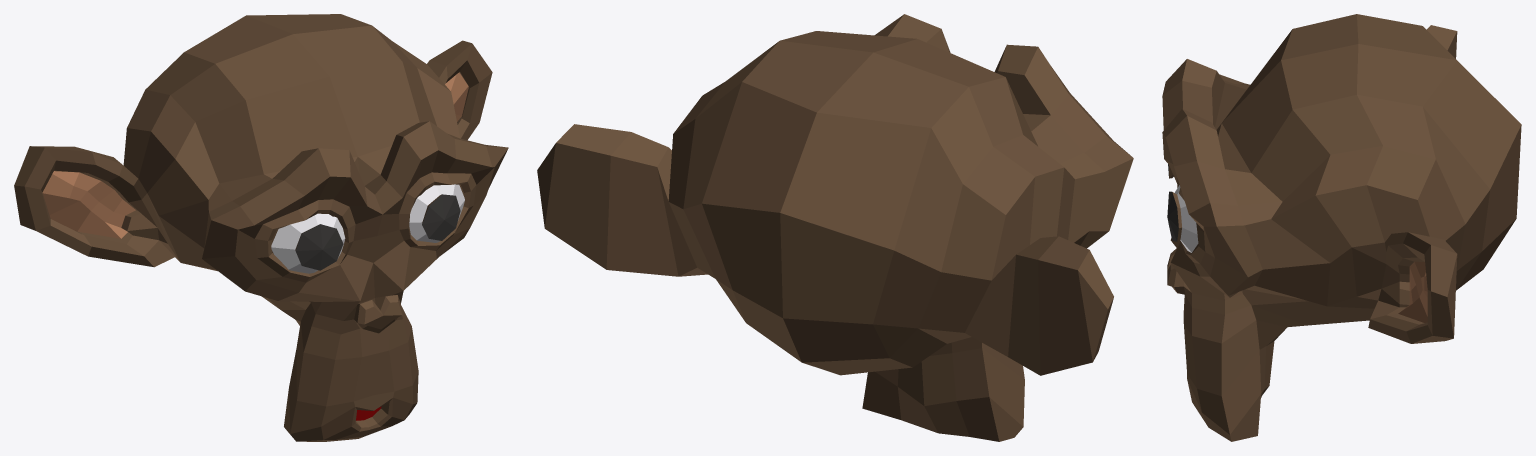
Rendered from Key.fbx.
3 renders of one model, left to right at view 1: azimuth 30°, elevation 25°; view 2: azimuth 150°, elevation 25°; view 3: azimuth 270°, elevation 25°, orthographic. The views are drawn at different scales.
Visible parts, largest first — view 1: Suzanne; view 2: Suzanne; view 3: Suzanne.
Part boxes in pixels (left/top/right/bottom): Suzanne: left=14, top=14, right=508, bottom=441; Suzanne: left=537, top=14, right=1133, bottom=441; Suzanne: left=1162, top=14, right=1521, bottom=441.
Size of the model in its own units: 1.44 by 1.04 by 0.8996.
